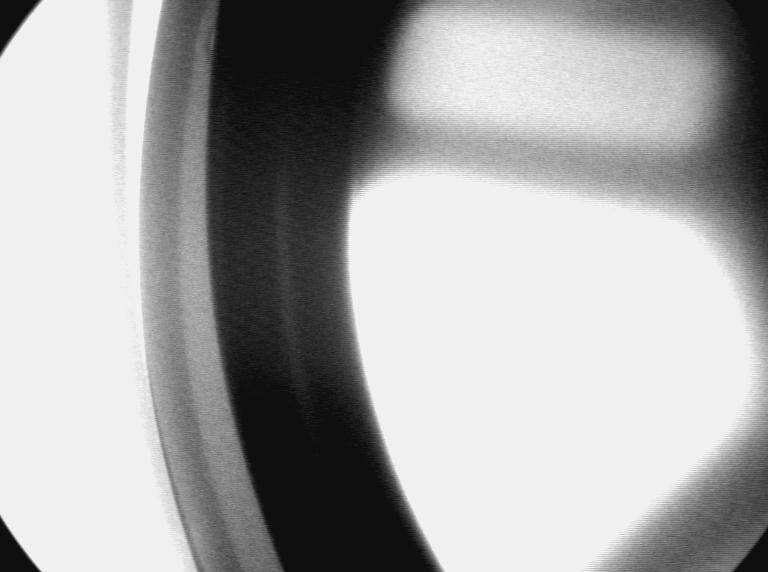defect: (202, 26, 222, 69)
